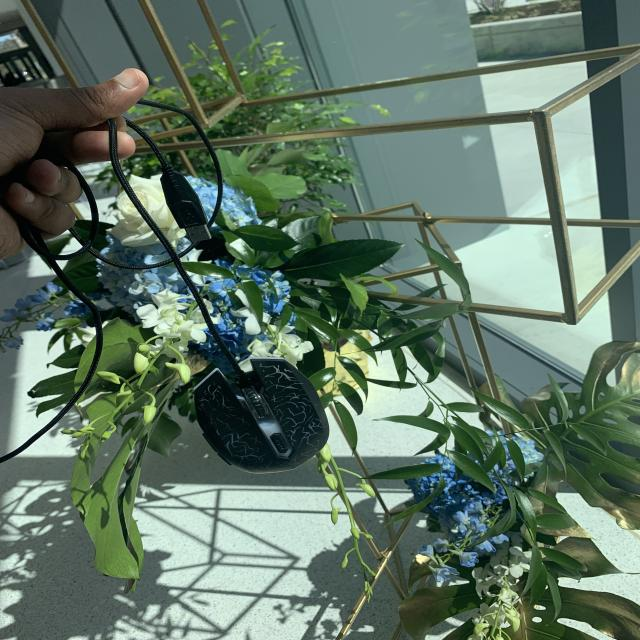Mouse: (179, 352, 342, 478)
